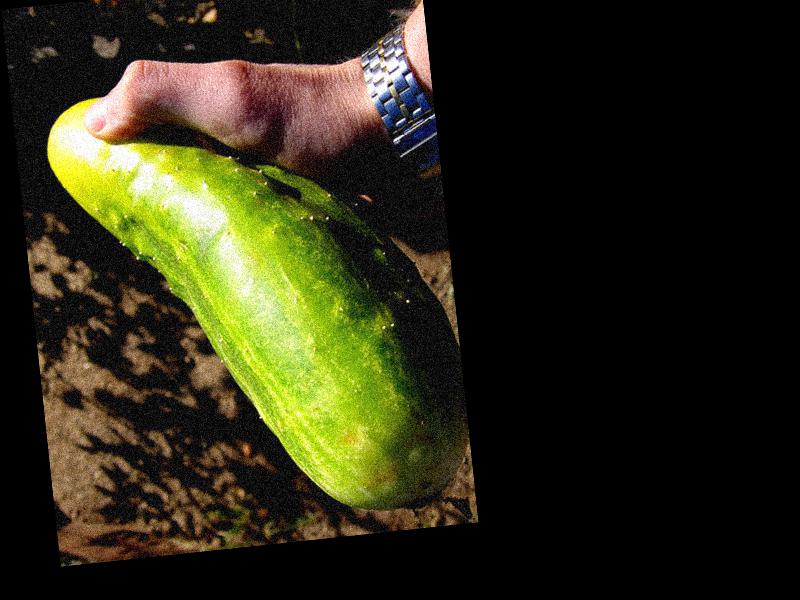Cucumber: (42, 62, 476, 543)
